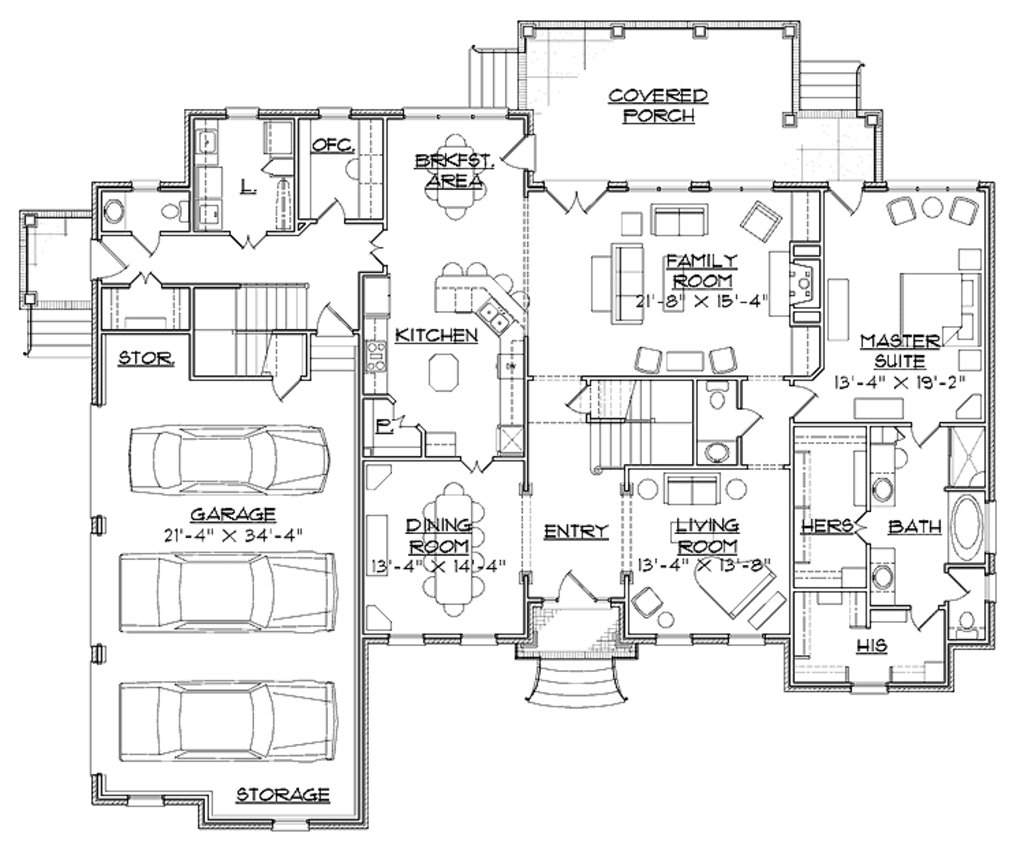bed: (895, 269, 978, 349)
dining_table: (419, 479, 489, 618), (420, 134, 488, 223)
door: (545, 182, 611, 218), (90, 237, 131, 281), (554, 569, 599, 606), (313, 300, 358, 336), (824, 181, 869, 215), (787, 383, 820, 420), (739, 403, 769, 440), (910, 420, 943, 453), (501, 135, 530, 172), (271, 375, 305, 406), (128, 233, 166, 260), (368, 225, 391, 267), (228, 230, 268, 254), (318, 196, 349, 224), (942, 573, 968, 606), (907, 607, 939, 632), (854, 509, 874, 544)
kitchen_bar: (432, 259, 526, 338)
large_sink: (154, 195, 193, 228), (952, 606, 982, 638)
large_sofa: (609, 241, 649, 329), (649, 199, 713, 243), (662, 469, 722, 509)
small_sink: (868, 546, 899, 606), (99, 185, 130, 235)
small_sofa: (739, 202, 783, 241)
stairs: (188, 287, 308, 383), (587, 378, 698, 470), (524, 658, 630, 712), (17, 308, 94, 363), (797, 56, 868, 113), (466, 43, 524, 109)
tub: (944, 488, 989, 563)
twin_sink: (475, 298, 515, 340)
window: (884, 177, 979, 194), (624, 179, 694, 194), (267, 815, 312, 833), (709, 180, 779, 191), (725, 630, 765, 648), (123, 792, 168, 807), (385, 632, 427, 648), (654, 635, 696, 650), (455, 633, 499, 646), (314, 107, 354, 121), (222, 106, 261, 120)
